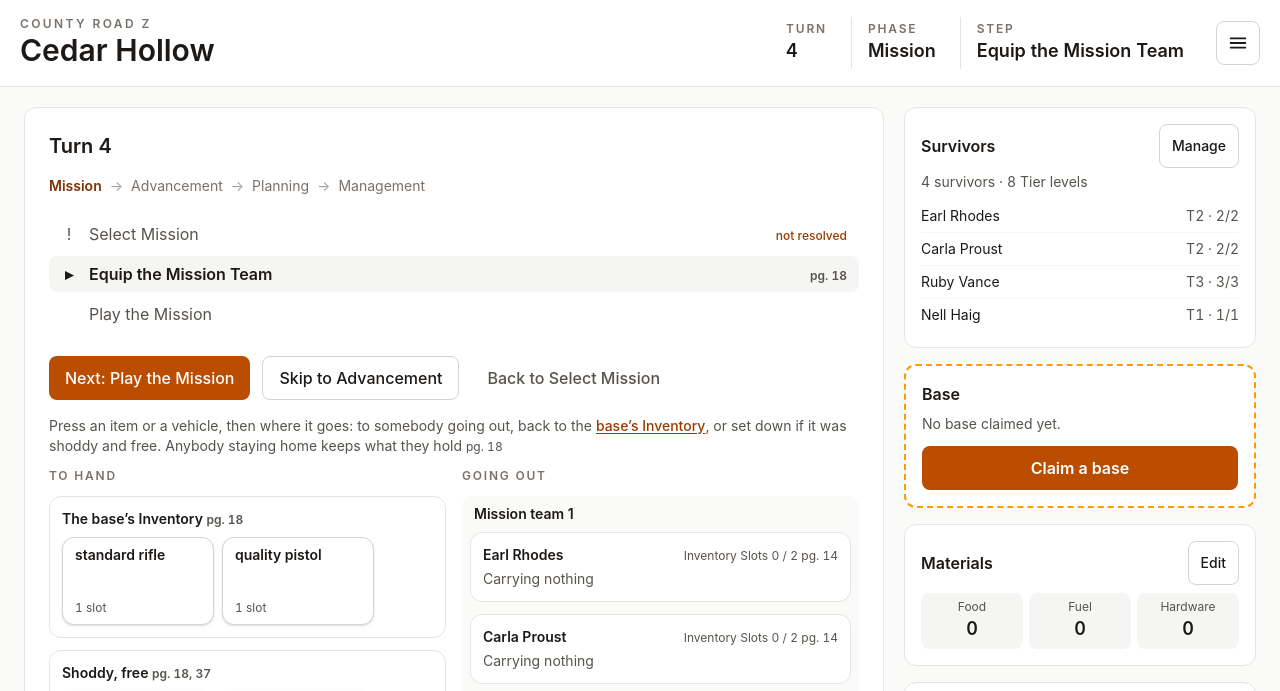
Equip Mission Team (pg. 18; Z5-4) › takes an item from the base’s Inventory, and writes it down
The image size is (1280, 691).
Step 1. Click the button "quality pistol 1 slot" → [298, 580], box x1=222 y1=536 x2=374 y2=624
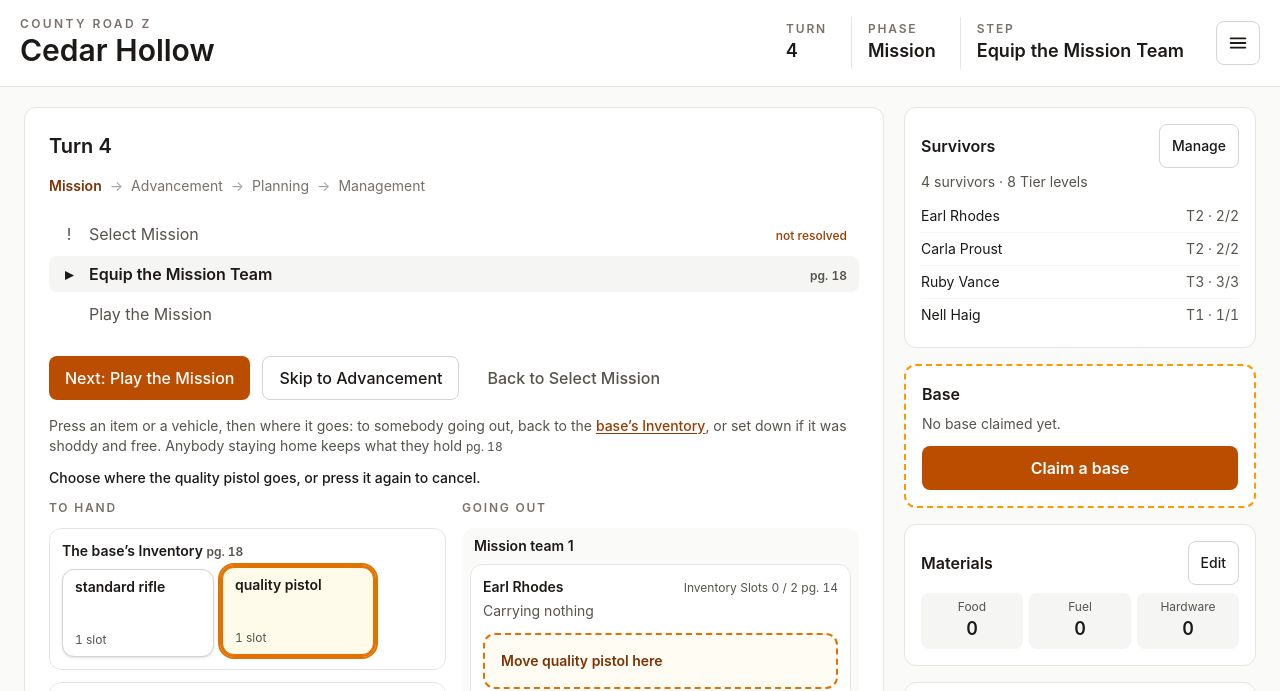
Step 2. Click the button "Move quality pistol here" → [660, 660], box x1=489 y1=638 x2=832 y2=682
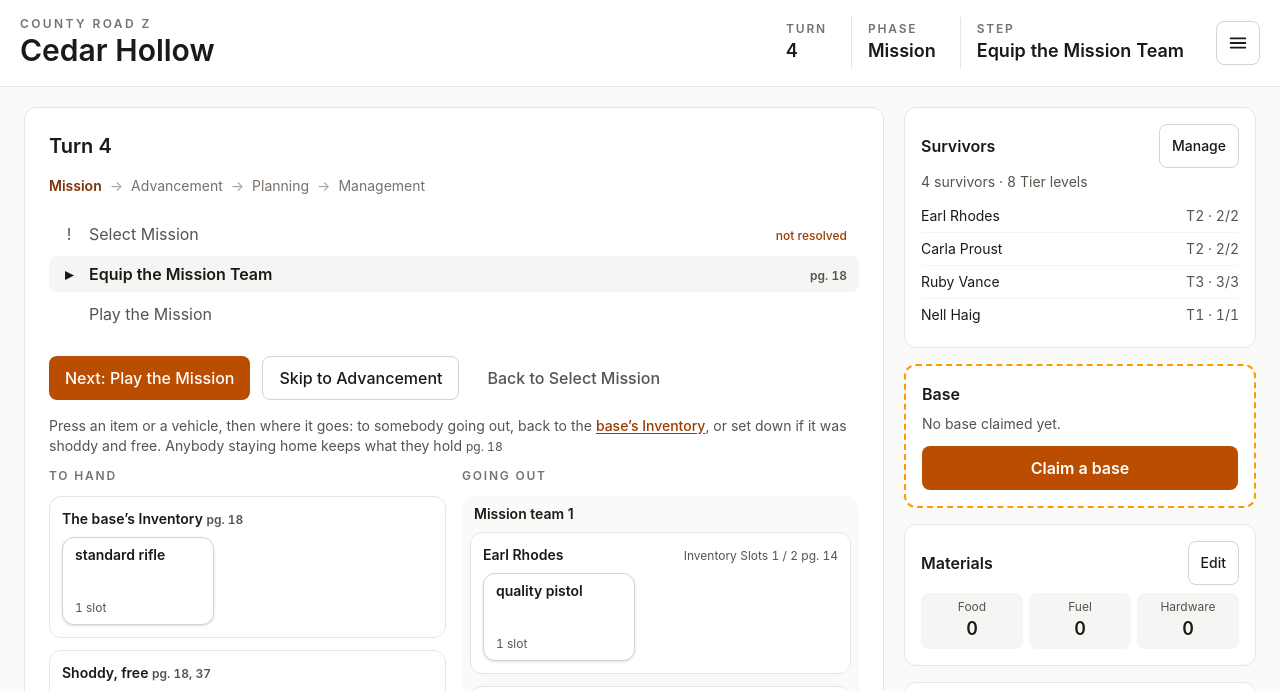
expect the button "quality pistol 1 slot" is shown: met, box x1=483 y1=572 x2=635 y2=660
expect the text "Inventory Slots 1 / 2 pg. 14" is shown: met, box x1=684 y1=548 x2=838 y2=564
Step 3. Click the button named "menu" → [1238, 43], box x1=1216 y1=21 x2=1260 y2=65
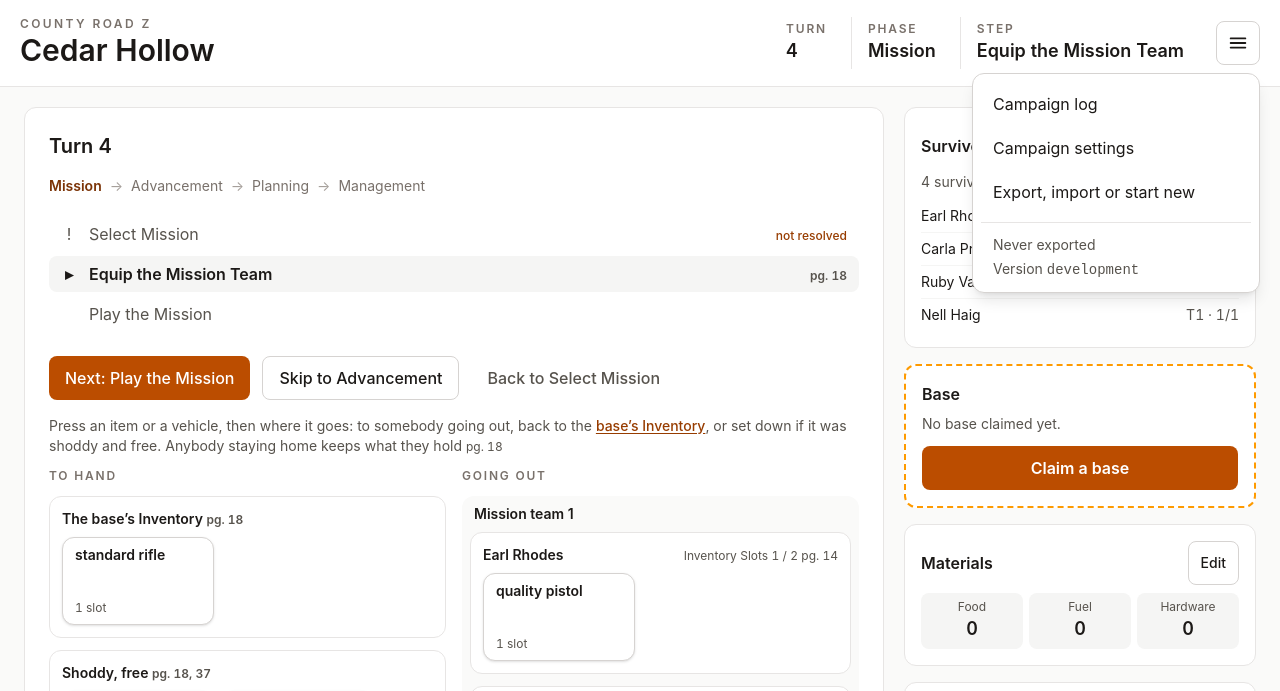
Step 4. Click the button "Campaign log" → [1045, 104], box x1=981 y1=82 x2=1251 y2=126
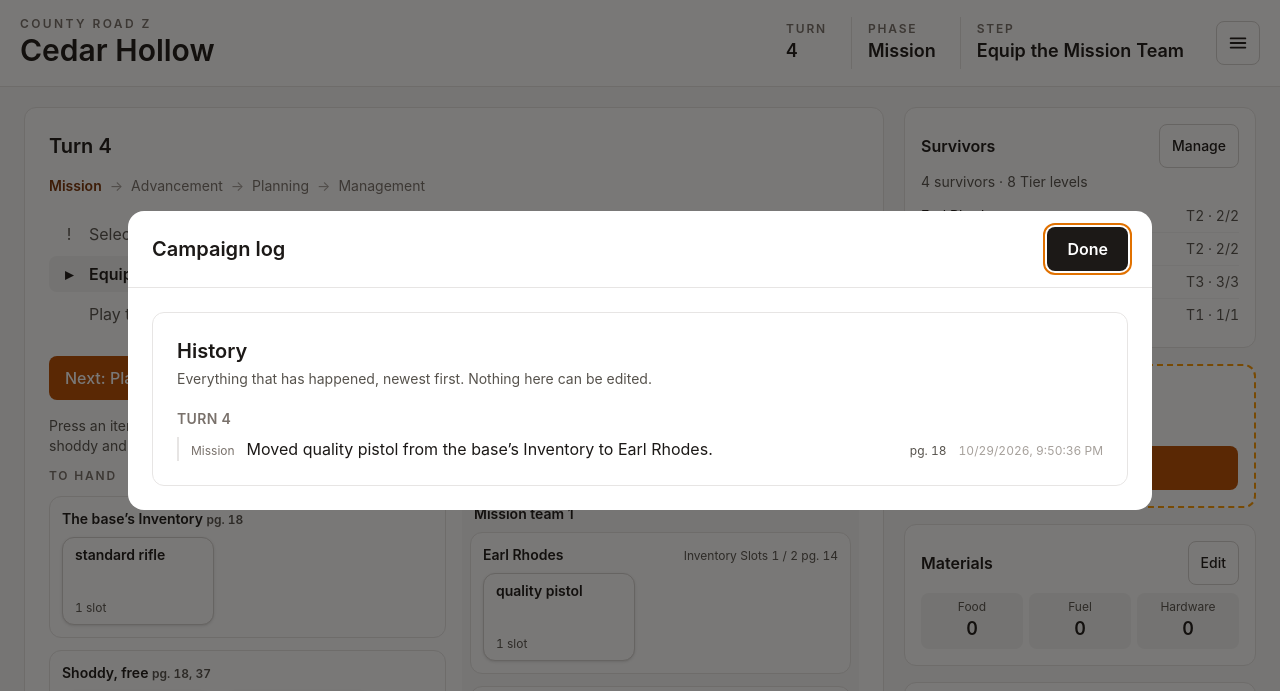
expect the element "History" shows "Moved quality pistol from the base’s Inventory to Earl Rhodes.": met, box x1=247 y1=438 x2=713 y2=458
